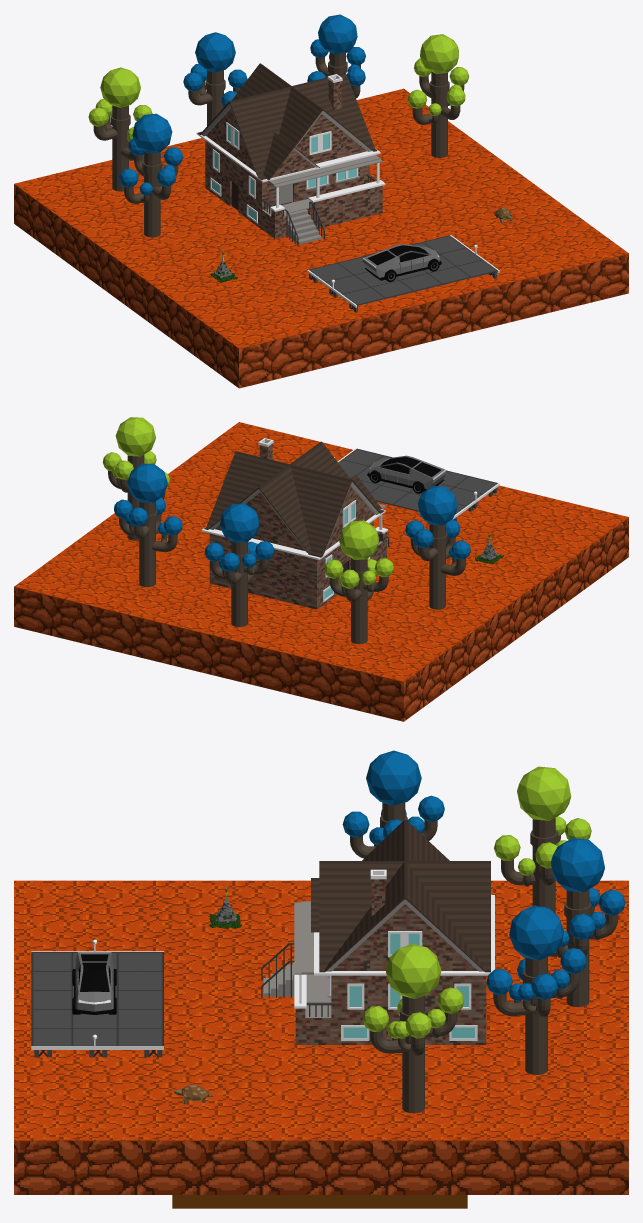
The picture shows the model from 3 angles, top to bottom: view 1: azimuth 30°, elevation 25°; view 2: azimuth 150°, elevation 25°; view 3: azimuth 270°, elevation 25°; orthographic projection. The views are drawn at different scales.
Parts seen in each view (by area): view 1: Cube.001, Cube.117, VEHICLES_CYBERTRUCK; view 2: Cube.001, Cube.117, VEHICLES_CYBERTRUCK; view 3: Cube.001, Cube.117, UNDERGROUND_ART_PIECE_VAN_GOGH, VEHICLES_CYBERTRUCK, OBJRANDOM_SWORD_IN_THE_STONE.
Boxes of the visible parts, x1,y1,x2,y2 form: Cube.001: (14, 14, 628, 388); Cube.117: (196, 63, 385, 245); VEHICLES_CYBERTRUCK: (362, 244, 441, 281); Cube.001: (14, 417, 628, 721); Cube.117: (201, 438, 389, 609); VEHICLES_CYBERTRUCK: (367, 455, 446, 493); Cube.001: (14, 750, 628, 1194); Cube.117: (261, 820, 494, 1044); UNDERGROUND_ART_PIECE_VAN_GOGH: (172, 1195, 467, 1208); VEHICLES_CYBERTRUCK: (72, 952, 116, 1014); OBJRANDOM_SWORD_IN_THE_STONE: (208, 886, 241, 928).
Size of the model in its own units: 4000 by 1789 by 4000.
38 materials, 6 textured.
